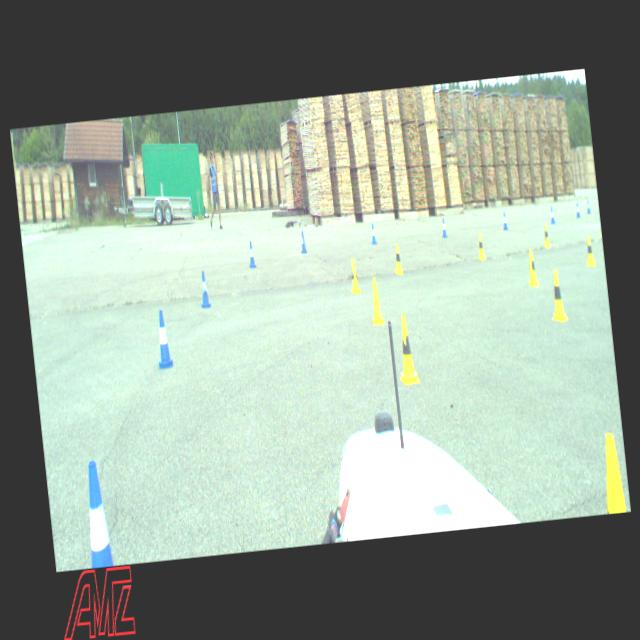blue_cone: (80, 460, 112, 568), (152, 310, 172, 368), (198, 270, 210, 308), (247, 240, 256, 268), (299, 230, 307, 253), (369, 223, 376, 244), (440, 218, 447, 237), (502, 212, 508, 230), (550, 206, 556, 223), (575, 202, 580, 217), (586, 200, 590, 213)
yellow_cone: (598, 432, 626, 514), (393, 314, 420, 385), (546, 269, 568, 322), (368, 277, 384, 324), (525, 249, 539, 287), (347, 258, 360, 294), (584, 234, 596, 266), (392, 243, 403, 274), (475, 233, 485, 260), (542, 223, 550, 247)
